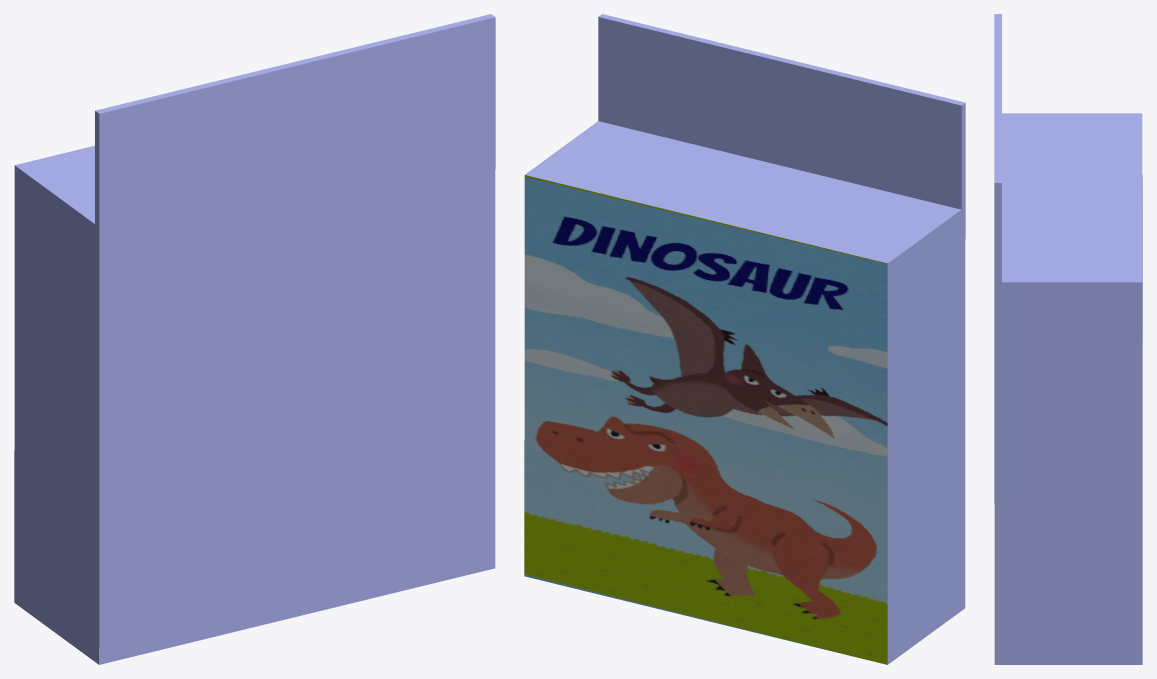
File: Shooting_Target_Box02_ver2.fbx
3 views of the same model, side by side, from view 1: azimuth 30°, elevation 25°; view 2: azimuth 150°, elevation 25°; view 3: azimuth 270°, elevation 25° (orthographic). The views are drawn at different scales.
Visible parts, largest first — view 1: 立方体.001; view 2: 立方体.001; view 3: 立方体.001.
Boxes of the visible parts, x1,y1,x2,y2 form: 立方体.001: (14, 14, 495, 664); 立方体.001: (524, 14, 965, 664); 立方体.001: (994, 14, 1142, 664).
Bounding box in the file's own units: 1.96 × 2.61 × 0.7298.
2 materials, 1 textured.
